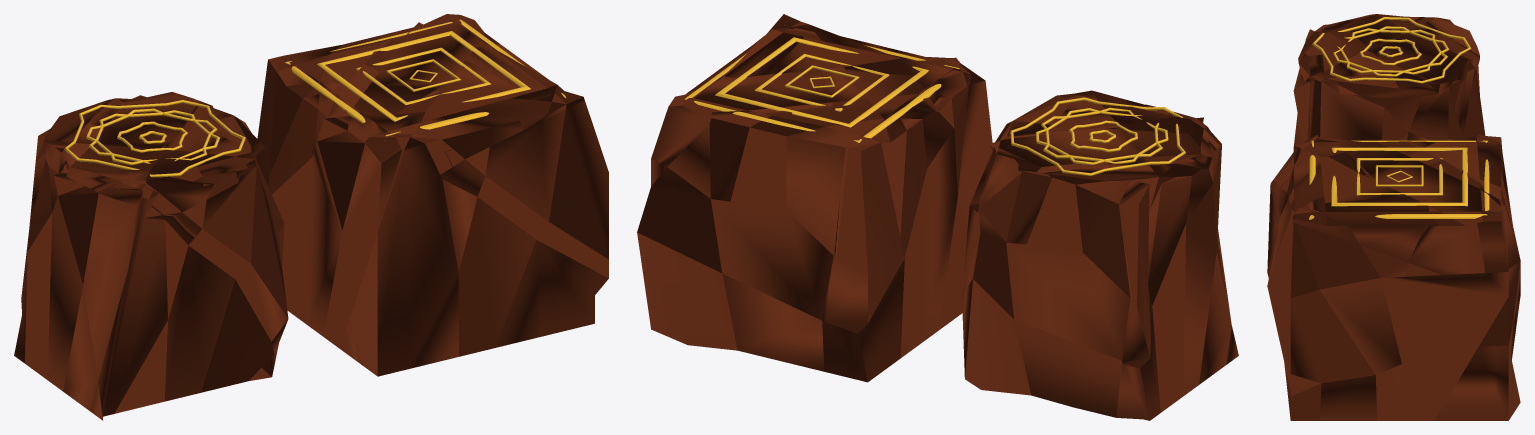
The model's file is Rocks.fbx.
The picture shows the model from 3 angles, left to right: view 1: azimuth 30°, elevation 25°; view 2: azimuth 150°, elevation 25°; view 3: azimuth 270°, elevation 25°; orthographic projection. The views are drawn at different scales.
Visible parts, largest first — view 1: Cube_1_2, Cube_1, Sweep_NURBS_1_3, Sweep_NURBS_2_2, Sweep_NURBS_3_2, Sweep_NURBS_2, Sweep_NURBS, Sweep_NURBS_3; view 2: Cube_1_2, Cube_1, Sweep_NURBS_1_3, Sweep_NURBS_2_2, Sweep_NURBS_3_2, Sweep_NURBS_2, Sweep_NURBS, Sweep_NURBS_3; view 3: Cube_1_2, Cube_1, Sweep_NURBS_1_3, Sweep_NURBS_2_2, Sweep_NURBS_3_2, Sweep_NURBS, Sweep_NURBS_3, Sweep_NURBS_2, Sweep_NURBS_1_2, Sweep_NURBS_3_4.
Boxes of the visible parts, box(x1,y1,x2,y2) form: Cube_1_2: box(256, 14, 608, 376); Cube_1: box(14, 92, 288, 420); Sweep_NURBS_1_3: box(317, 31, 530, 121); Sweep_NURBS_2_2: box(285, 19, 566, 140); Sweep_NURBS_3_2: box(64, 100, 245, 177); Sweep_NURBS_2: box(356, 47, 490, 105); Sweep_NURBS: box(86, 108, 217, 165); Sweep_NURBS_3: box(89, 110, 220, 163); Cube_1_2: box(637, 14, 992, 382); Cube_1: box(962, 90, 1238, 420); Sweep_NURBS_1_3: box(715, 37, 928, 127); Sweep_NURBS_2_2: box(684, 25, 959, 142); Sweep_NURBS_3_2: box(1010, 97, 1185, 175); Sweep_NURBS_2: box(754, 53, 889, 111); Sweep_NURBS: box(1041, 107, 1168, 163); Sweep_NURBS_3: box(1035, 108, 1162, 164); Cube_1_2: box(1267, 135, 1520, 420); Cube_1: box(1293, 14, 1485, 147); Sweep_NURBS_1_3: box(1331, 147, 1467, 206); Sweep_NURBS_2_2: box(1309, 140, 1489, 219); Sweep_NURBS_3_2: box(1312, 17, 1471, 83); Sweep_NURBS: box(1333, 28, 1447, 76); Sweep_NURBS_3: box(1337, 26, 1449, 74); Sweep_NURBS_2: box(1356, 158, 1442, 195); Sweep_NURBS_1_2: box(1359, 38, 1421, 65); Sweep_NURBS_3_4: box(1375, 165, 1423, 186).
Bounding box in the file's own units: 462 × 212 × 232.
